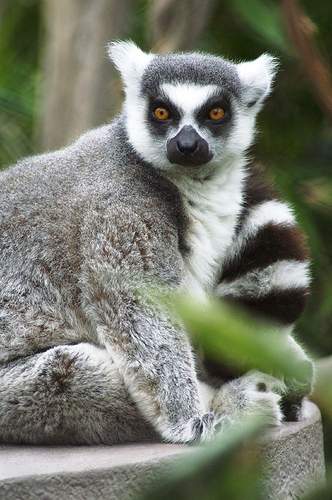cat: (1, 33, 320, 465)
